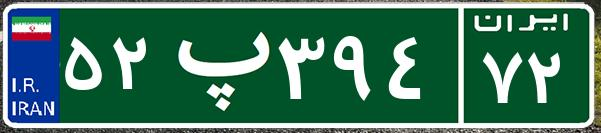2: (110, 28, 158, 105), (525, 38, 570, 115)
3: (273, 28, 330, 110)
4: (385, 28, 445, 110)
5: (57, 26, 110, 107)
7: (475, 38, 525, 113)
9: (330, 28, 385, 110)
پ: (158, 15, 273, 115)
